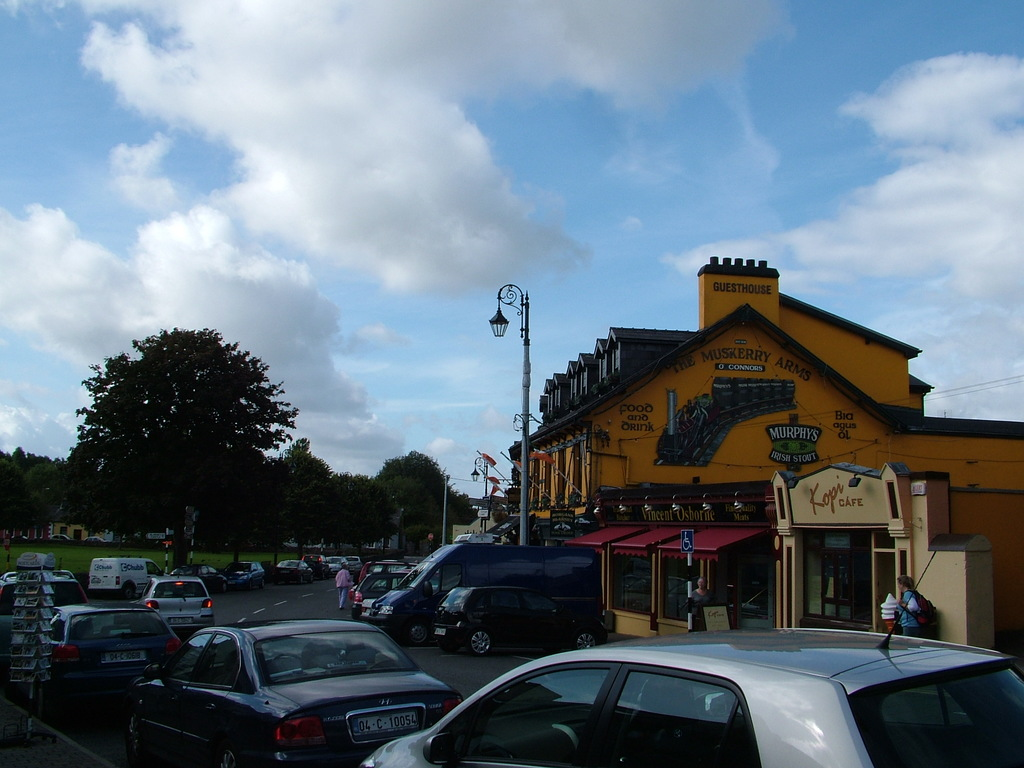Car: (0, 556, 1023, 767)
